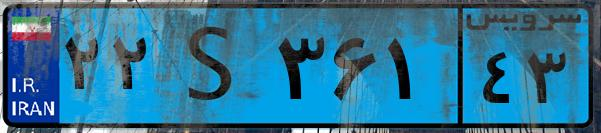1: (385, 28, 445, 110)
2: (57, 26, 110, 100), (110, 28, 158, 98)
3: (270, 28, 330, 110), (525, 38, 570, 115)
4: (475, 38, 525, 113)
6: (330, 28, 385, 110)
S: (158, 12, 270, 120)
